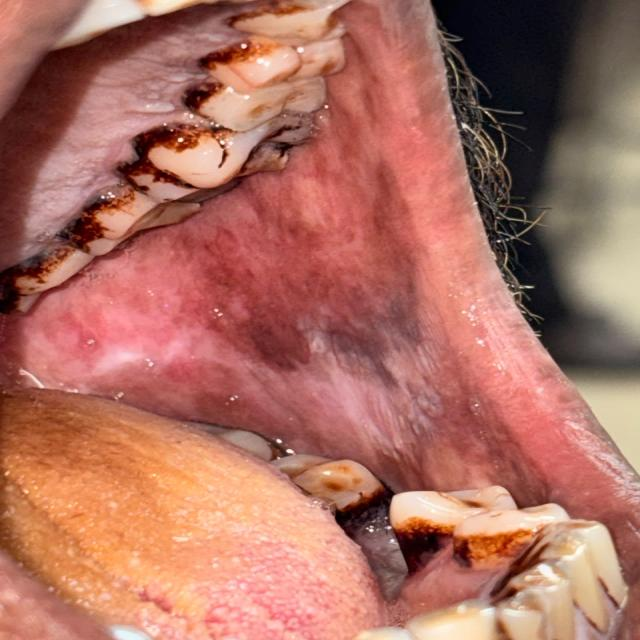leukoplakia-detection: (45, 187, 471, 467)
processing_area: (0, 12, 630, 640)
